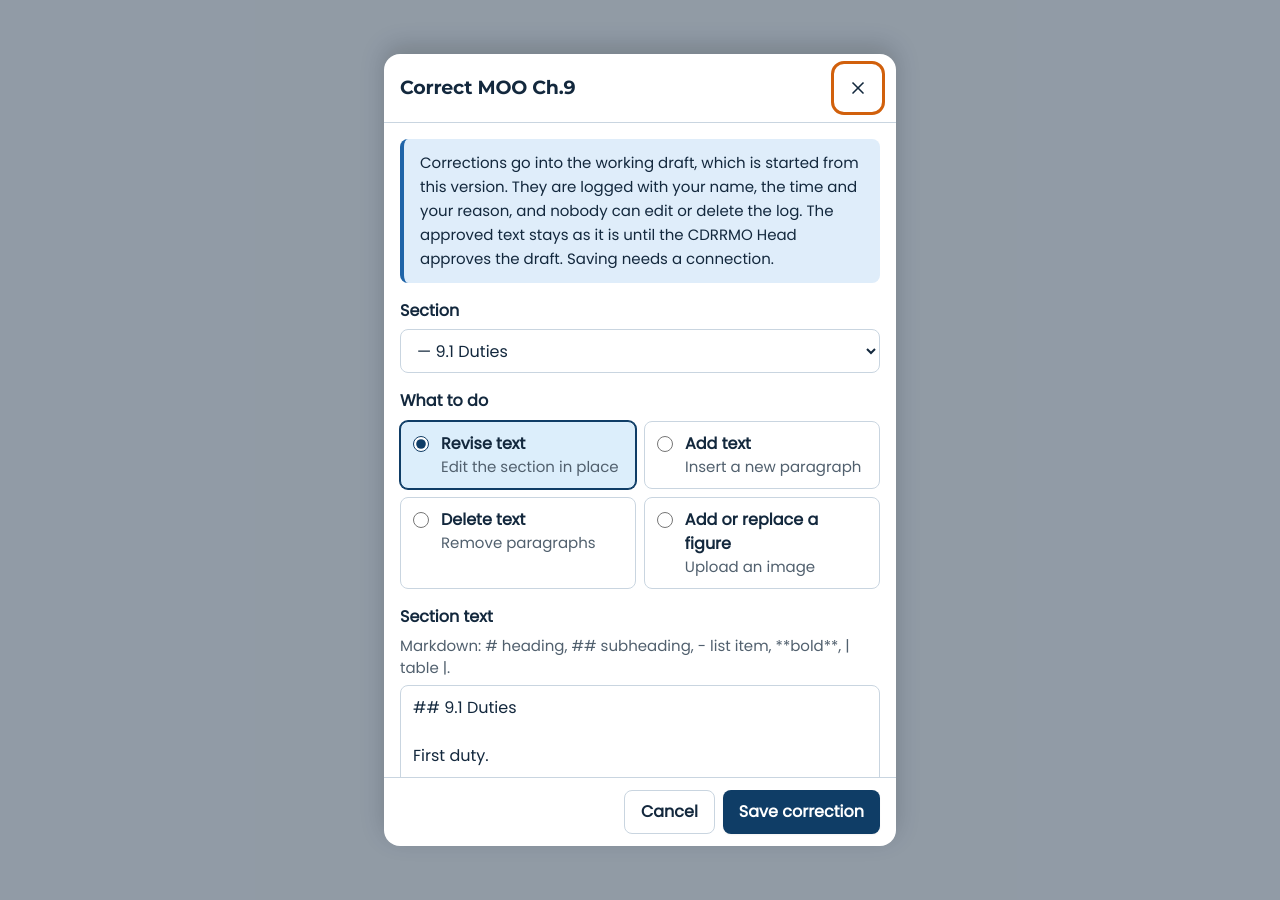
Scenario: chapter corrections (1.27.0) › offers every section and asks for a reason before saving
Click the text "Delete text" at (483, 520), box [441, 508, 525, 531]
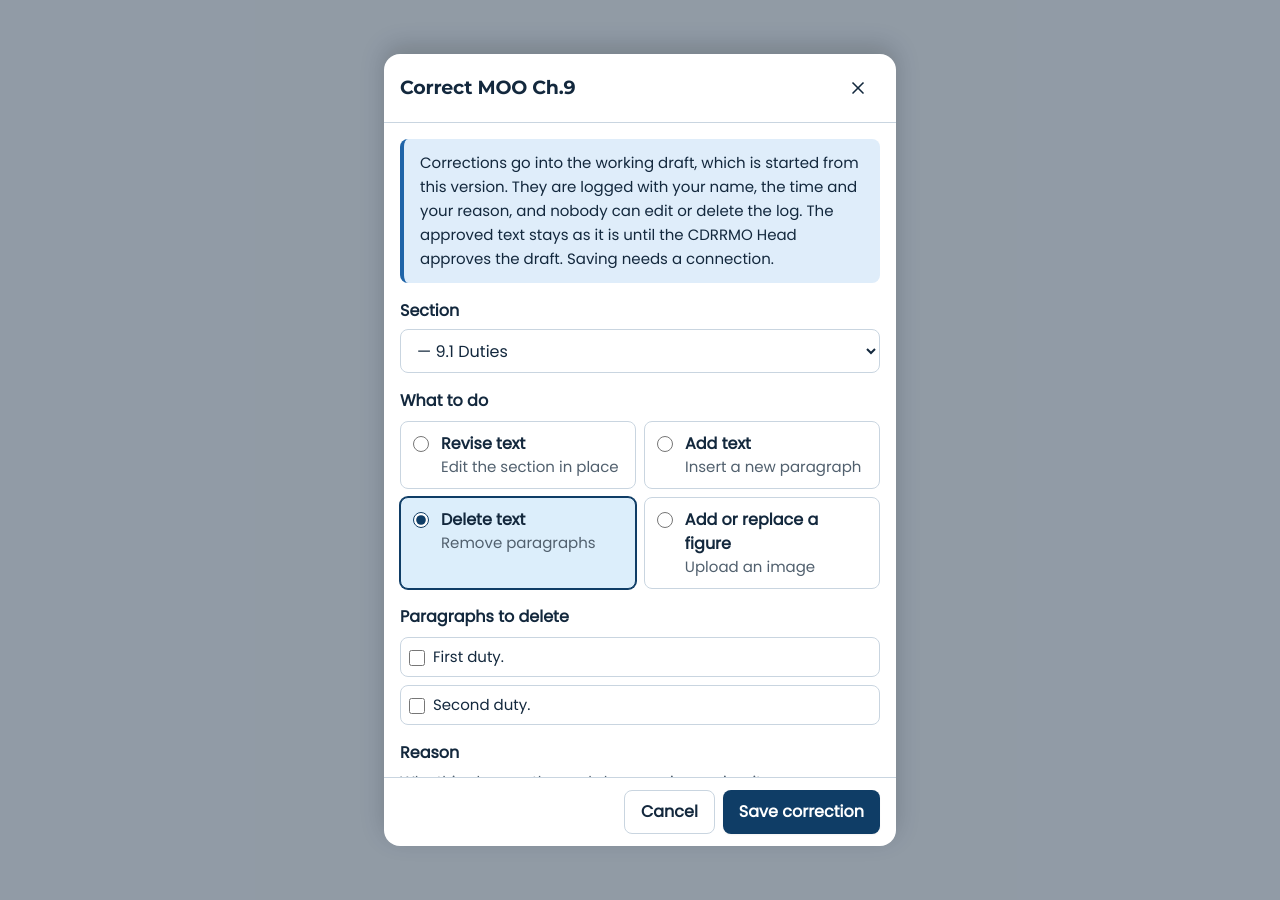
Result: the text "Second duty." is shown at [433, 694, 530, 716]
Click the button "Save correction" at (801, 812), box [723, 790, 880, 834]
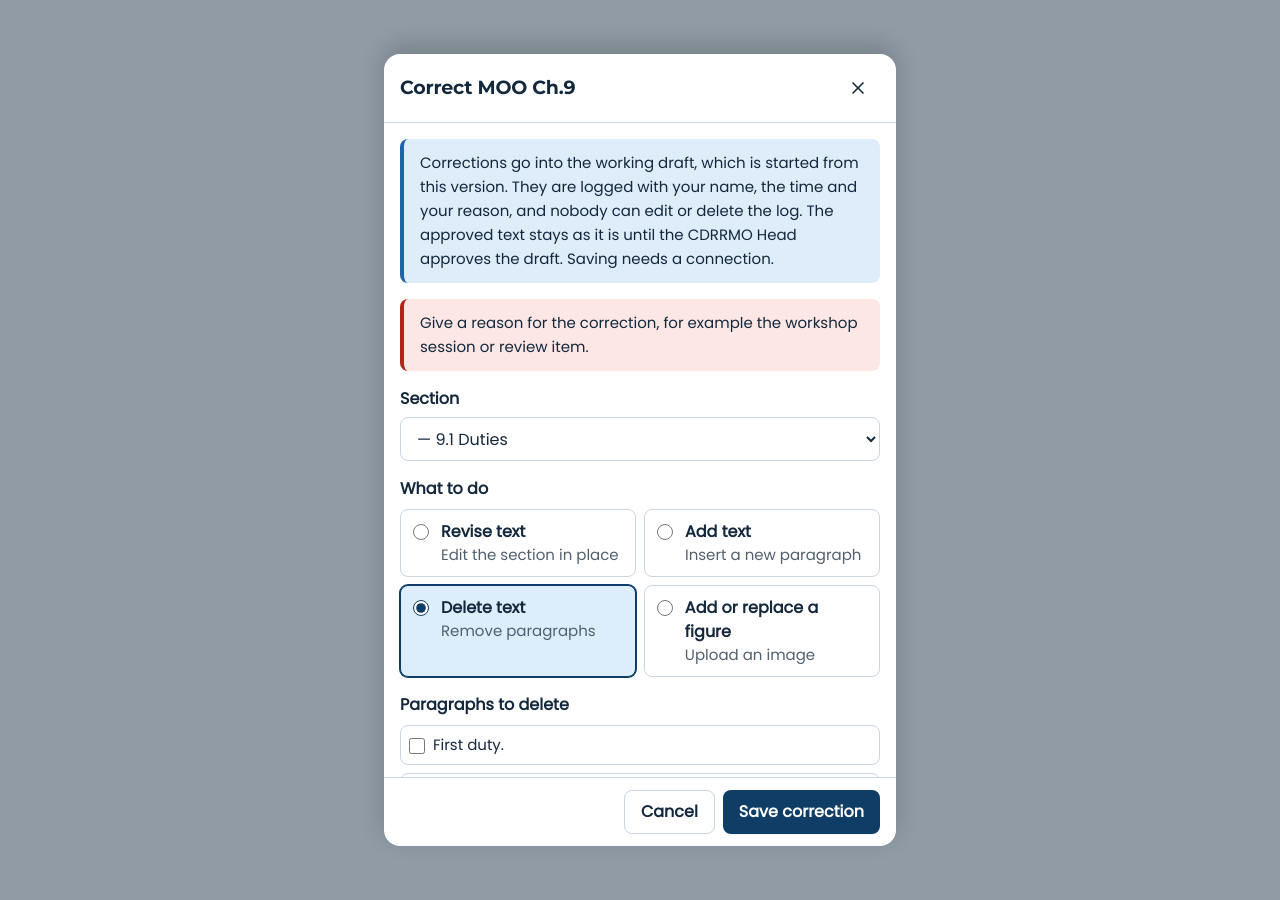
Result: the text "Give a reason for the correction" is shown at [420, 312, 858, 357]
